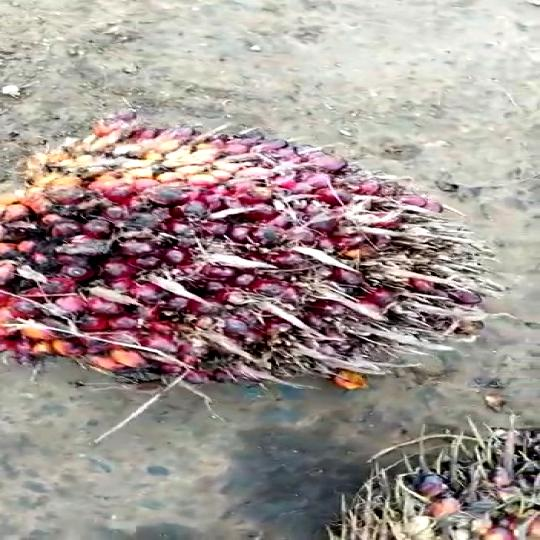masak: (0, 117, 507, 397)
